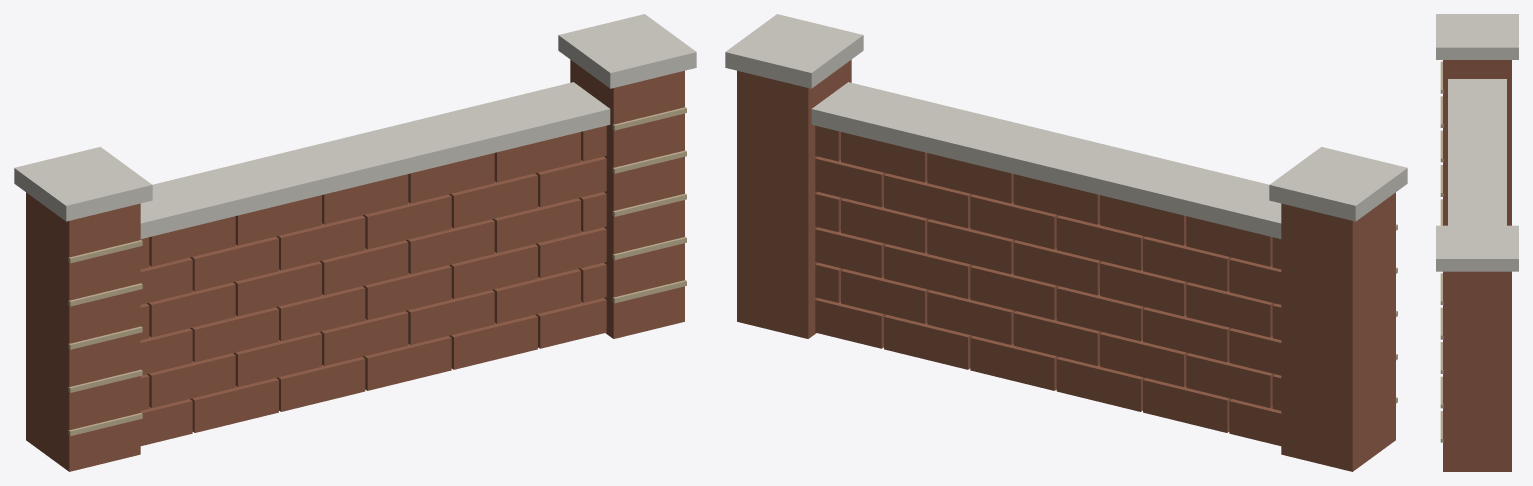
The model's file is b19_capped_brick_boundary_wall.glb.
3 views of the same model, side by side, from view 1: azimuth 30°, elevation 25°; view 2: azimuth 150°, elevation 25°; view 3: azimuth 270°, elevation 25° (orthographic). The views are drawn at different scales.
Visible parts, largest first — view 1: b19_capped_brick_boundary_wall; view 2: b19_capped_brick_boundary_wall; view 3: b19_capped_brick_boundary_wall.
Part boxes in pixels (<box>): b19_capped_brick_boundary_wall: <box>14,14,696,471</box>; b19_capped_brick_boundary_wall: <box>725,14,1407,471</box>; b19_capped_brick_boundary_wall: <box>1436,14,1518,471</box>.
Bounding box in the file's own units: 3.36 × 1.38 × 0.48.
